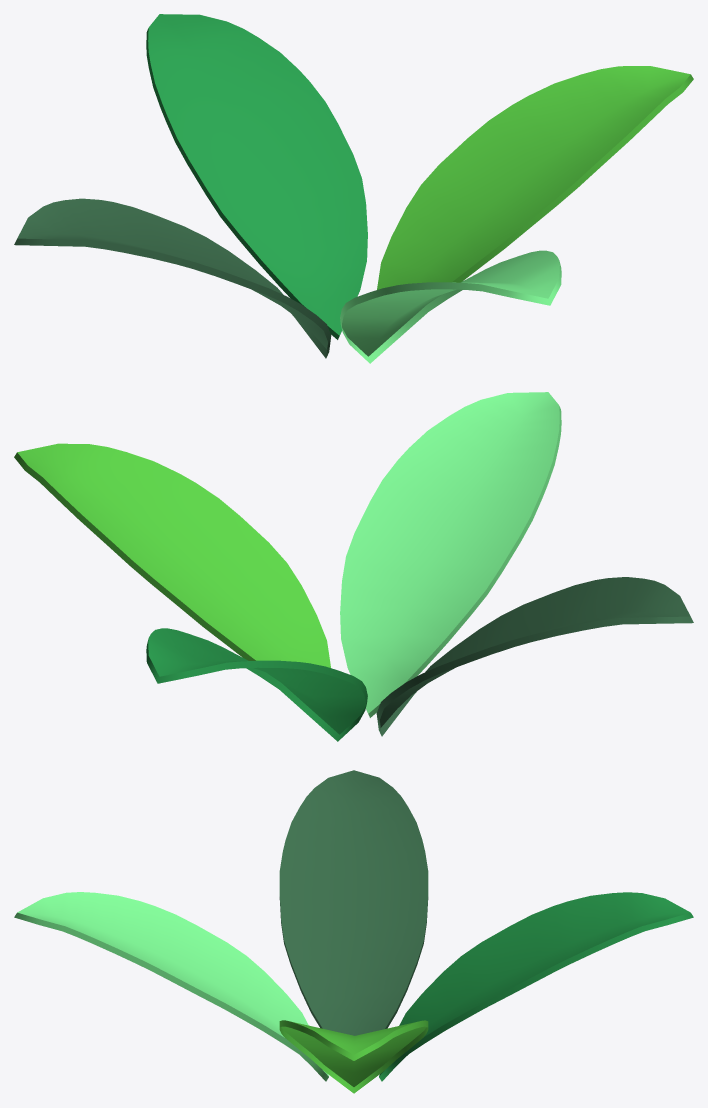
Rendered from Grass.fbx.
3 renders of one model, top to bottom at view 1: azimuth 30°, elevation 25°; view 2: azimuth 150°, elevation 25°; view 3: azimuth 270°, elevation 25°, orthographic. The views are drawn at different scales.
Parts seen in each view (by area): view 1: Object002; view 2: Object002; view 3: Object002.
Part boxes in pixels (x1,y1,x2,y2): Object002: [14, 14, 693, 363]; Object002: [14, 392, 693, 741]; Object002: [14, 770, 693, 1093].
Bounding box in the file's own units: 17.22 × 4.83 × 17.22.
